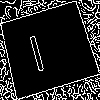I: (23, 24, 48, 73)
